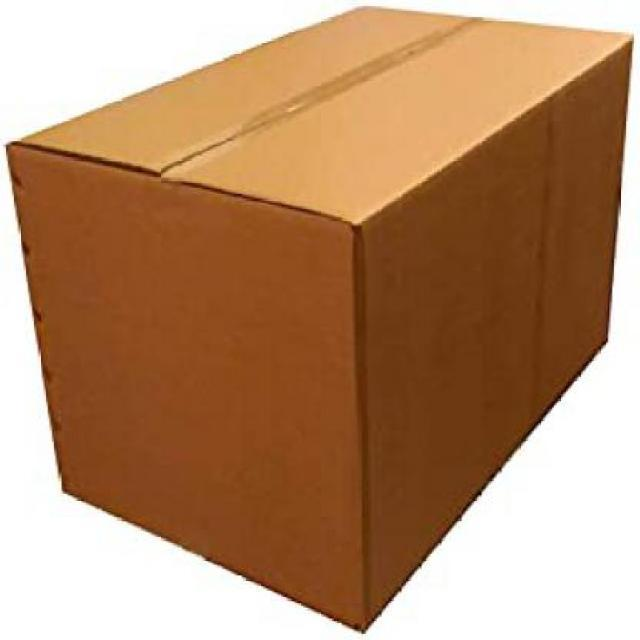box: (9, 6, 637, 626)
